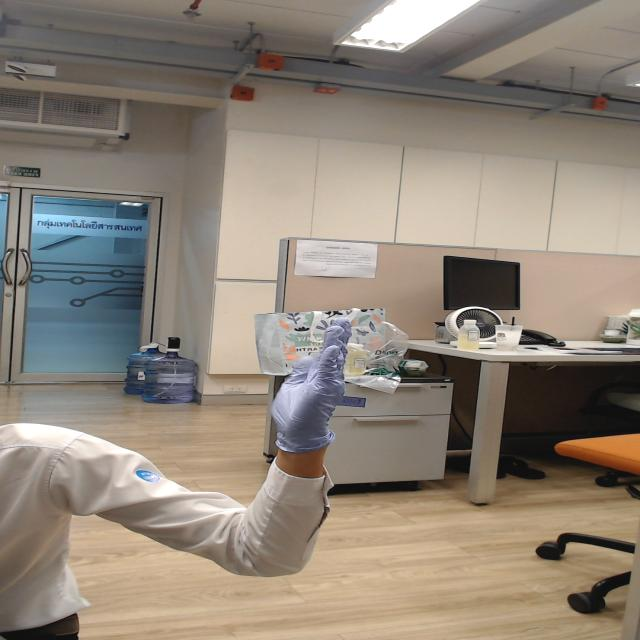glove: (228, 320, 381, 435)
